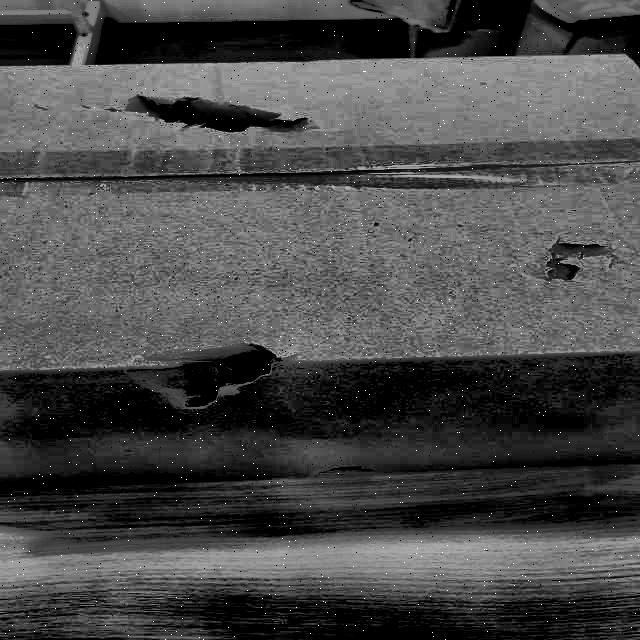box: (0, 48, 640, 492)
hole: (140, 339, 295, 409), (125, 91, 321, 137)
